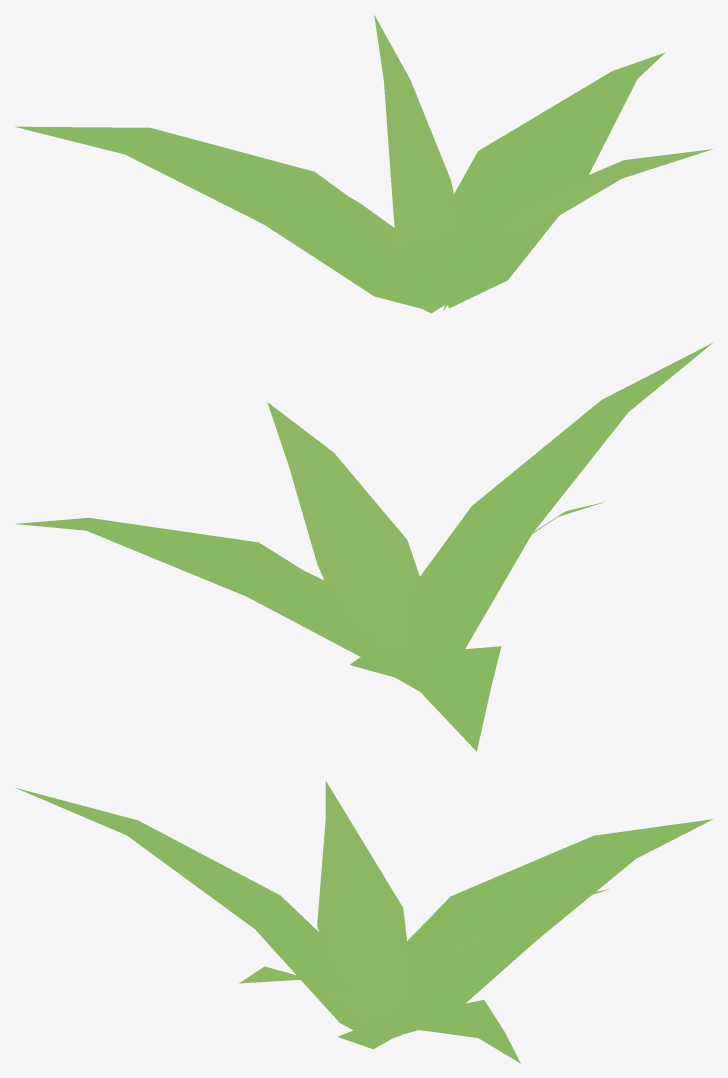
The model's file is Plant_a_OneS_06.fbx.
3 views of the same model, one above another, from view 1: azimuth 30°, elevation 25°; view 2: azimuth 150°, elevation 25°; view 3: azimuth 270°, elevation 25° (orthographic). The views are drawn at different scales.
Parts seen in each view (by area): view 1: Plant_a_OneS_06; view 2: Plant_a_OneS_06; view 3: Plant_a_OneS_06.
Part boxes in pixels (x1,y1,x2,y2): Plant_a_OneS_06: [15, 15, 713, 313]; Plant_a_OneS_06: [16, 342, 713, 751]; Plant_a_OneS_06: [15, 781, 713, 1063].
Bounding box in the file's own units: 1.65 × 0.6095 × 1.89.
